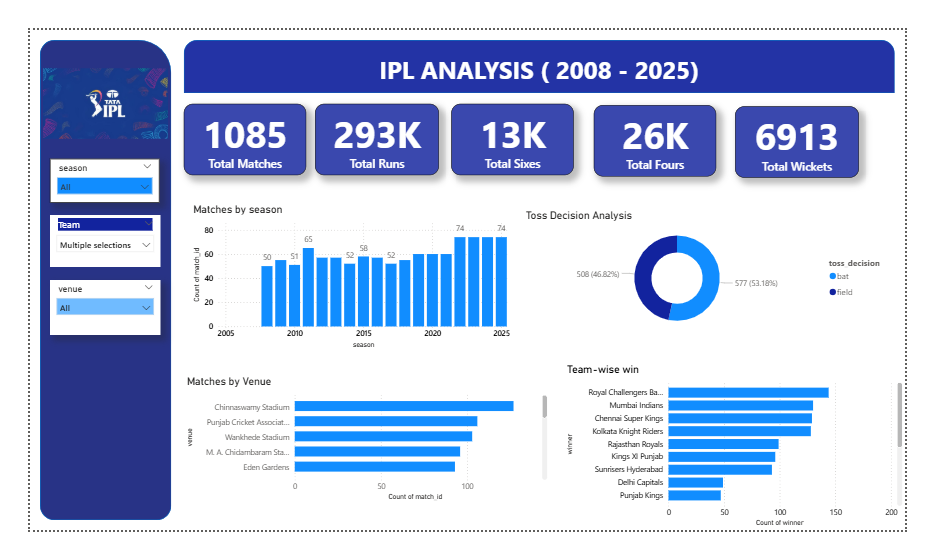

This screenshot's page, from the dashboard's own definition file:
{"tool":"powerbi","page":{"name":"IPL Overview","canvas":[1400,800],"ordinal":0},"visuals":[{"type":"shape","box":[15,15,210,768.3],"z":0},{"type":"card","fields":{"Values":["deliveries.Total Matches"]},"box":[246,118,196,114],"z":1000},{"type":"shape","box":[245,15,1137.5,85],"z":2000},{"type":"card","fields":{"Values":["deliveries.Total Wickets"]},"box":[1128,122,198,114],"z":3000},{"type":"card","fields":{"Values":["deliveries.Total Fours"]},"box":[902,120,196,114],"z":4000},{"type":"card","fields":{"Values":["deliveries.Total Sixes"]},"box":[674,118,196,114],"z":5000},{"type":"card","fields":{"Values":["deliveries.Total Runs"]},"box":[456,118,198,114],"z":6000},{"type":"image","box":[15,30,210,175],"z":7000},{"type":"slicer","fields":{"Values":["matches.venue"]},"box":[31.7,400,176.7,88.3],"z":8000},{"type":"clusteredBarChart","title":"Team-wise win","fields":{"Category":["matches.winner"],"Y":["CountNonNull(matches.winner)"]},"box":[853.3,531.7,546.7,268.3],"z":9000},{"type":"clusteredBarChart","title":"Matches by Venue","fields":{"Category":["matches.venue"],"Y":["CountNonNull(matches.match_id)"]},"box":[246.7,551.7,586.7,206.7],"z":10000},{"type":"donutChart","title":"Toss Decision Analysis","fields":{"Y":["CountNonNull(matches.match_id)"],"Category":["matches.toss_decision"]},"box":[788.3,286.7,595,203.3],"z":11000},{"type":"slicer","fields":{"Values":["matches.winner"]},"box":[31.7,295,176.7,83.3],"z":12000},{"type":"slicer","fields":{"Values":["seasons.season"]},"box":[31.7,205,175,70],"z":13000},{"type":"columnChart","title":"Matches by season","fields":{"Category":["seasons.season"],"Y":["Count(deliveries.match_id)"]},"box":[255,275,516.7,238.3],"z":14000}]}

Visuals, with their boxes in screenshot pixels (x1, y1, x2, y2), scaled from the page's 1400x800 canvas onto the 940x552 screenshot:
shape: (left=10, top=10, right=151, bottom=540)
card - deliveries.Total Matches: (left=165, top=81, right=297, bottom=160)
shape: (left=164, top=10, right=928, bottom=69)
card - deliveries.Total Wickets: (left=757, top=84, right=890, bottom=163)
card - deliveries.Total Fours: (left=606, top=83, right=737, bottom=161)
card - deliveries.Total Sixes: (left=453, top=81, right=584, bottom=160)
card - deliveries.Total Runs: (left=306, top=81, right=439, bottom=160)
image: (left=10, top=21, right=151, bottom=141)
slicer - matches.venue: (left=21, top=276, right=140, bottom=337)
"Team-wise win" clusteredBarChart: (left=573, top=367, right=939, bottom=551)
"Matches by Venue" clusteredBarChart: (left=166, top=381, right=560, bottom=523)
"Toss Decision Analysis" donutChart: (left=529, top=198, right=929, bottom=338)
slicer - matches.winner: (left=21, top=204, right=140, bottom=261)
slicer - seasons.season: (left=21, top=141, right=139, bottom=190)
"Matches by season" columnChart: (left=171, top=190, right=518, bottom=354)
